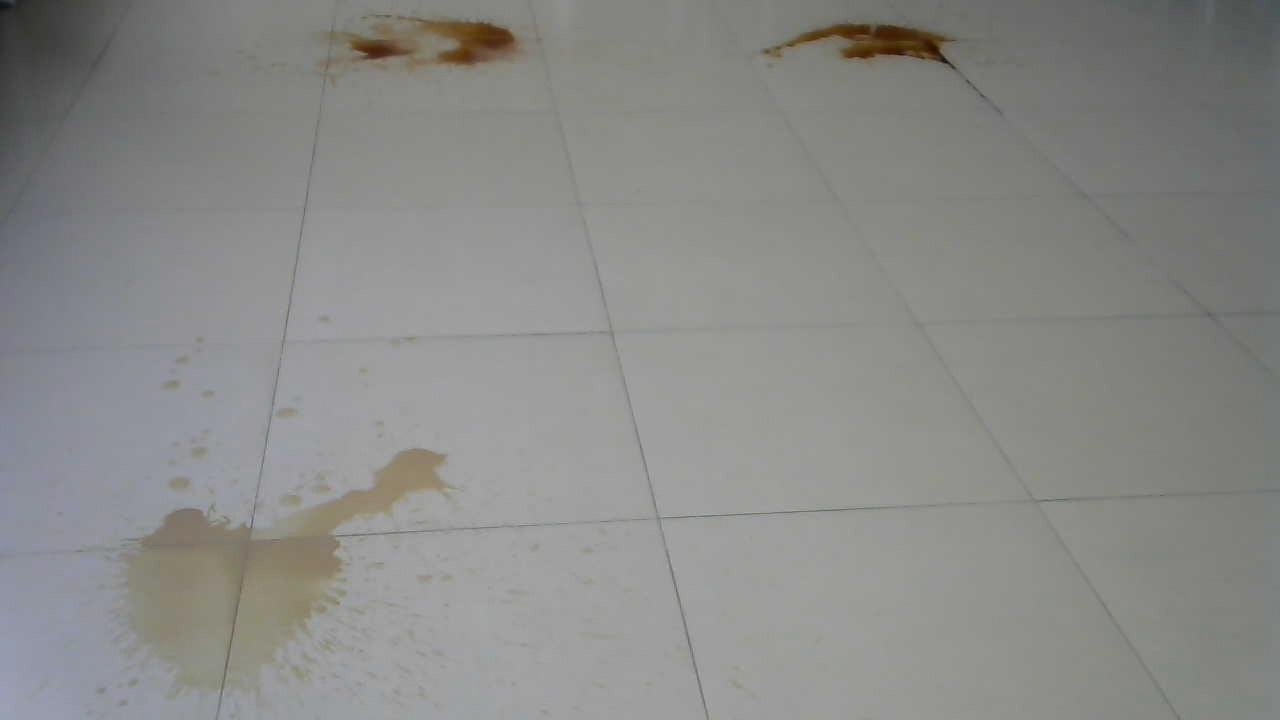dirty_floor: (82, 462, 509, 676), (298, 7, 540, 100), (745, 14, 995, 99)
